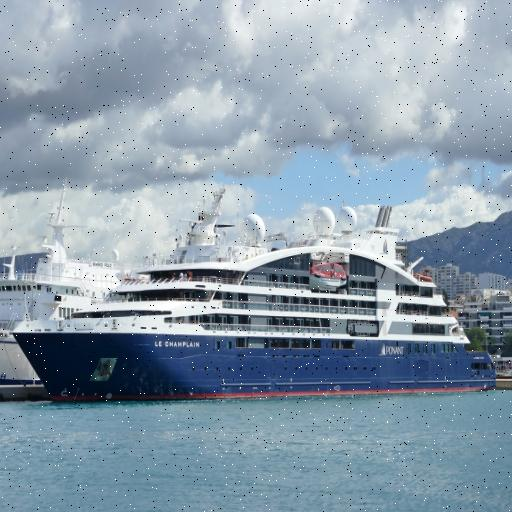cruises: (10, 187, 500, 398)
